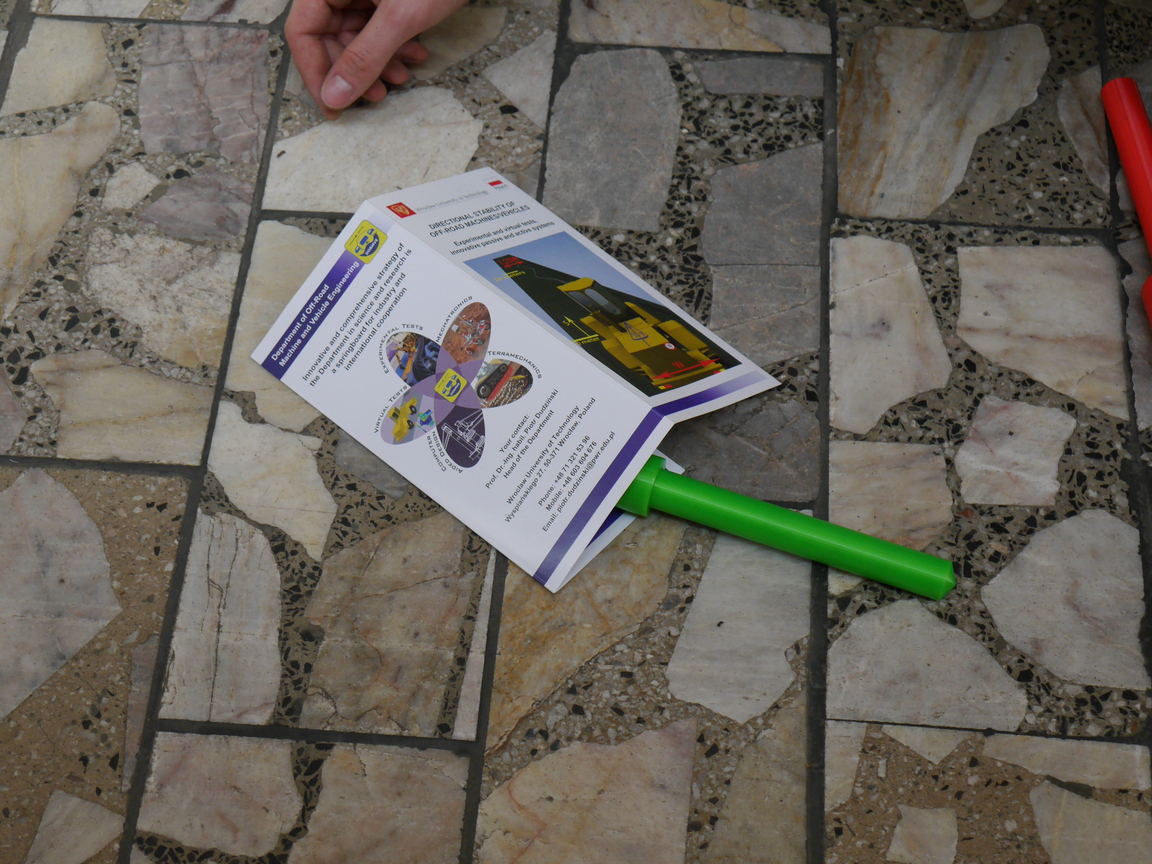cargo_g: (617, 453, 959, 601), (1102, 77, 1152, 331)
